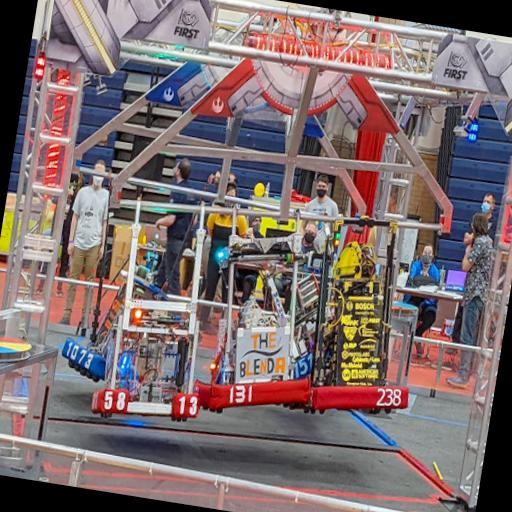robot: (86, 192, 232, 432), (190, 201, 337, 432), (290, 206, 435, 424), (54, 247, 178, 393)
